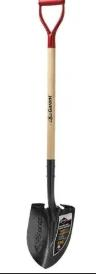PELLE: (22, 0, 82, 274)
